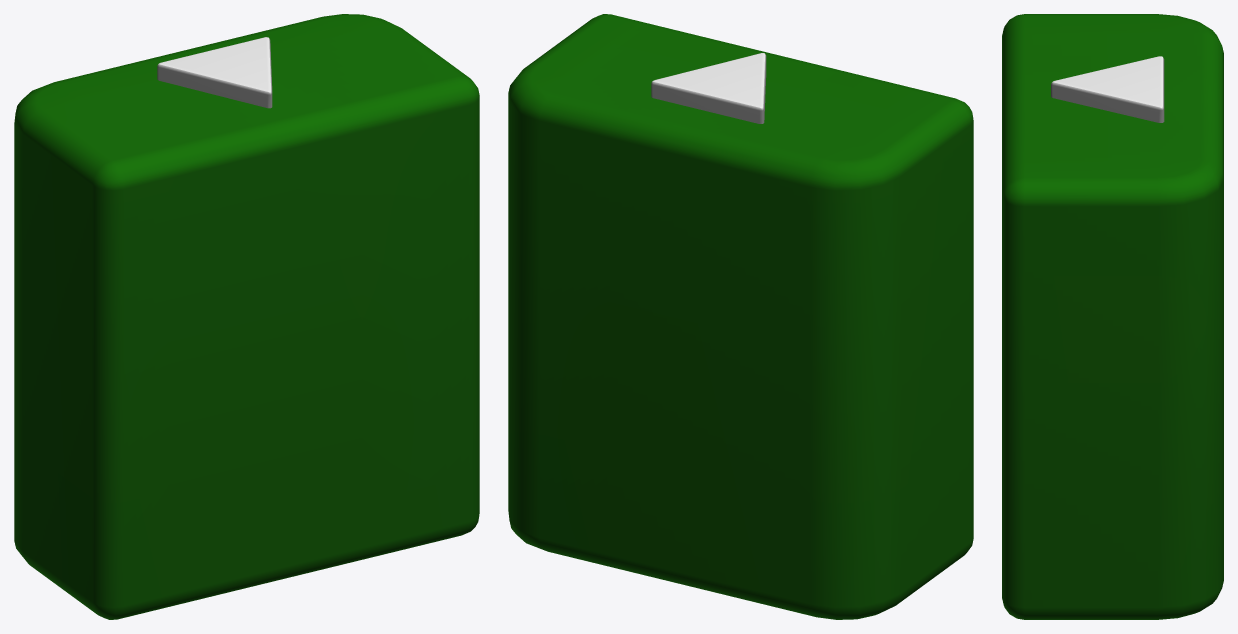
File: Blast_DarkGreen.fbx
3 views of the same model, side by side, from view 1: azimuth 30°, elevation 25°; view 2: azimuth 150°, elevation 25°; view 3: azimuth 270°, elevation 25° (orthographic). The views are drawn at different scales.
Parts seen in each view (by area): view 1: Blast_DarkGreen; view 2: Blast_DarkGreen; view 3: Blast_DarkGreen.
Part boxes in pixels (x1,y1,x2,y2): Blast_DarkGreen: (14,14,479,619); Blast_DarkGreen: (508,14,973,619); Blast_DarkGreen: (1002,14,1223,619).
Size of the model in its own units: 1.01 by 1.19 by 0.525.
Materials: 1 (1 with a texture image).
